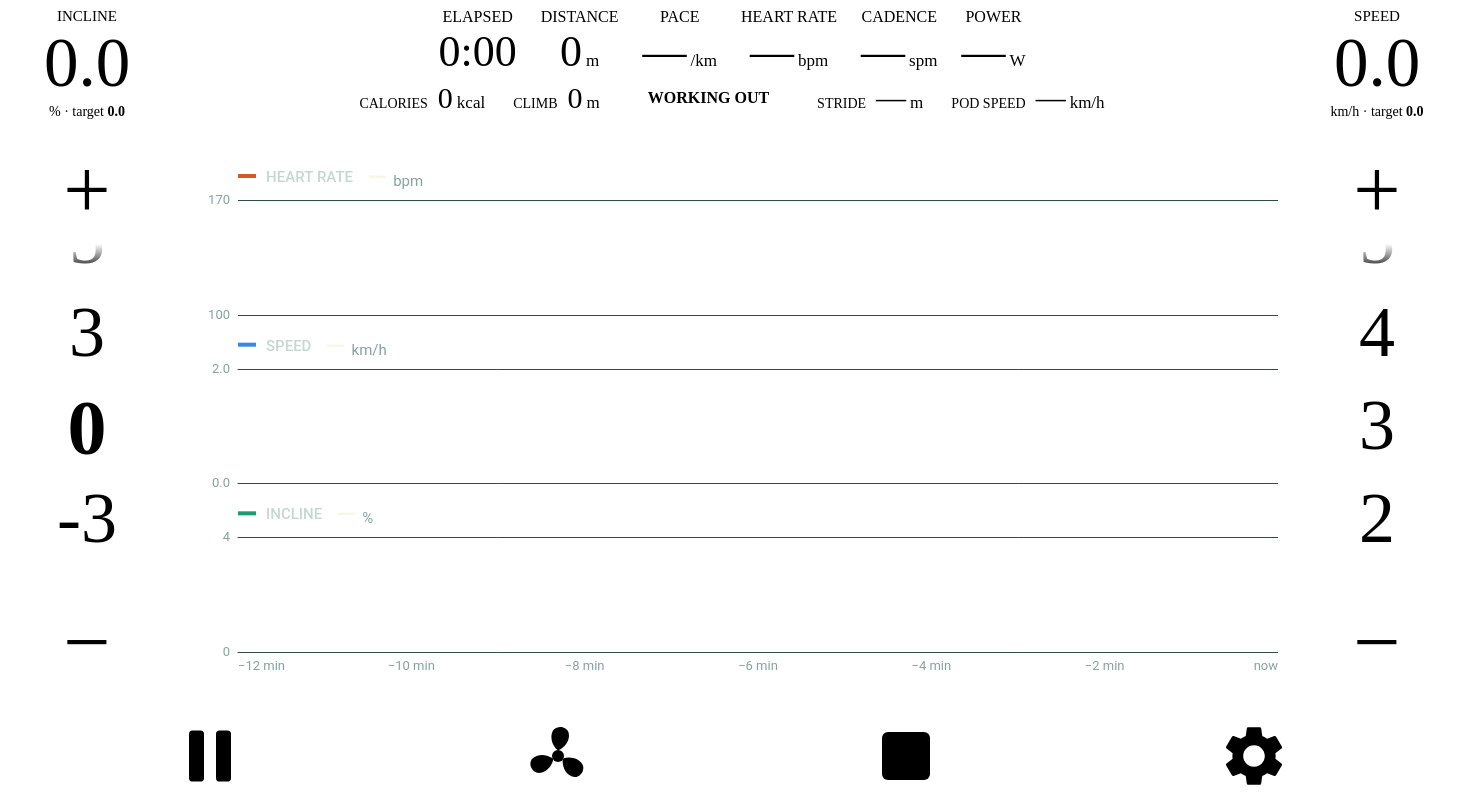
Test: workout › sets the fan from its menu
(page scrolled)
Click the 2nd button named "FAN" at (558, 750), box [384,706,732,794]
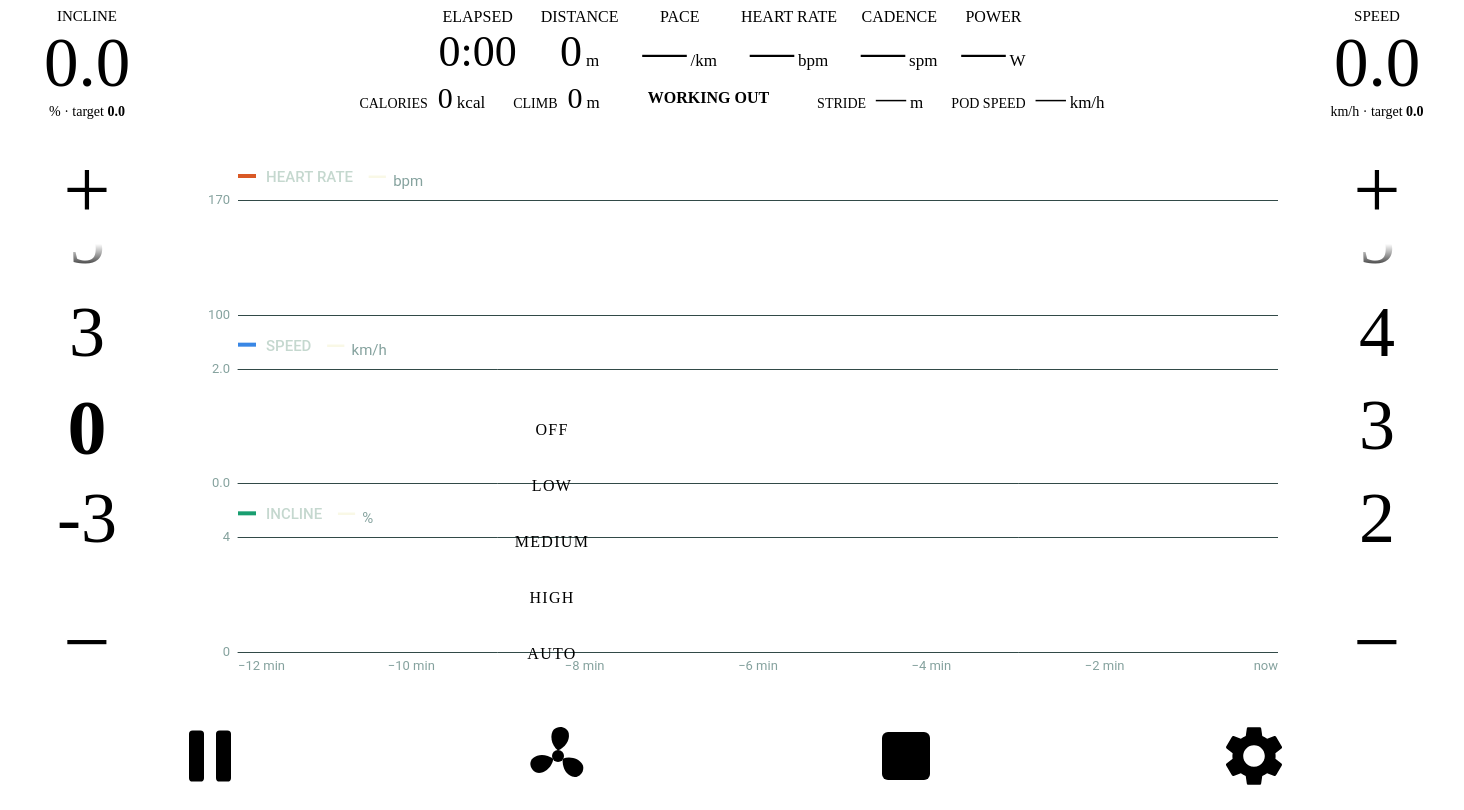
Click the button "HIGH" at (552, 598), box [477,572,627,624]
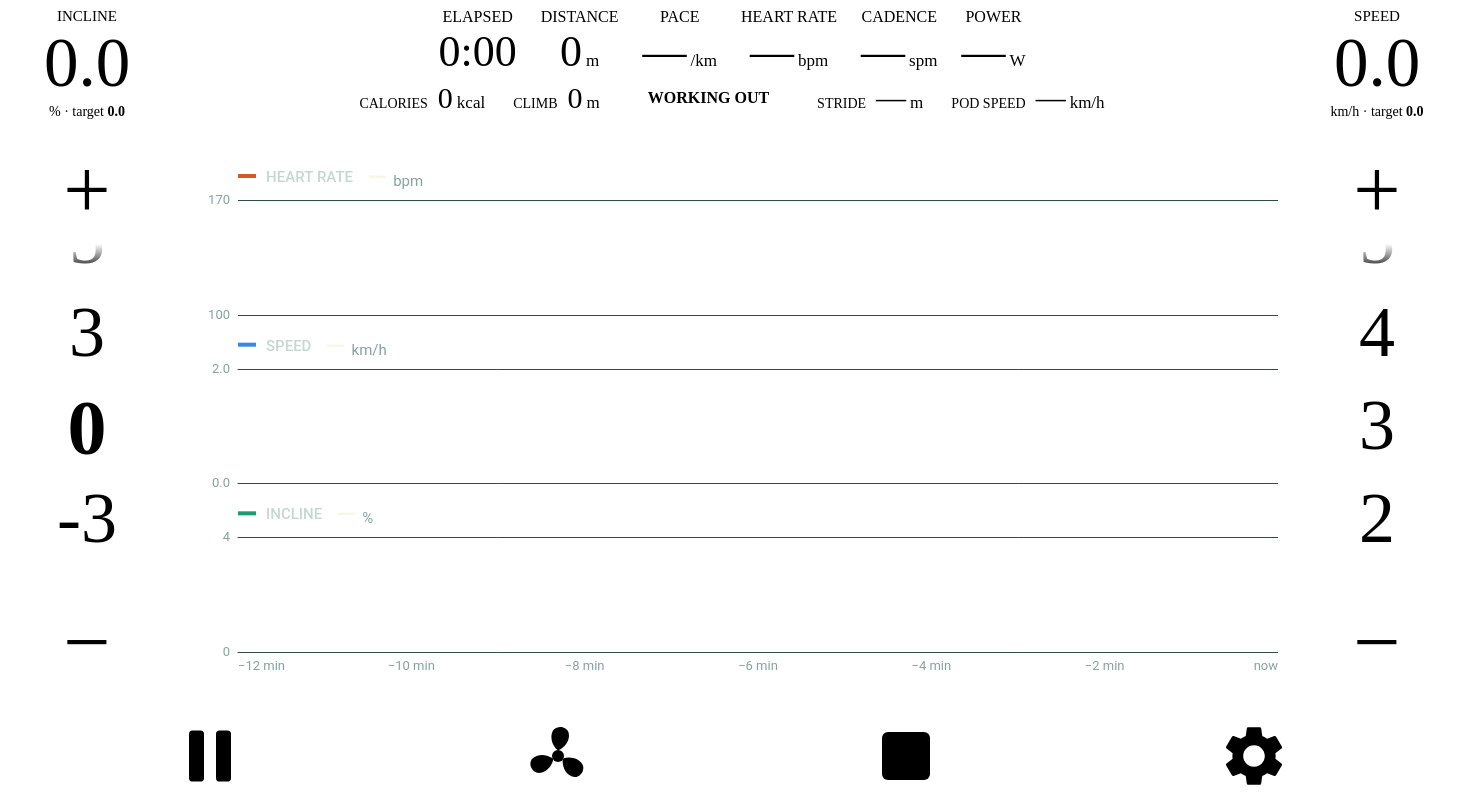
Expected: the button "HIGH" is gone
